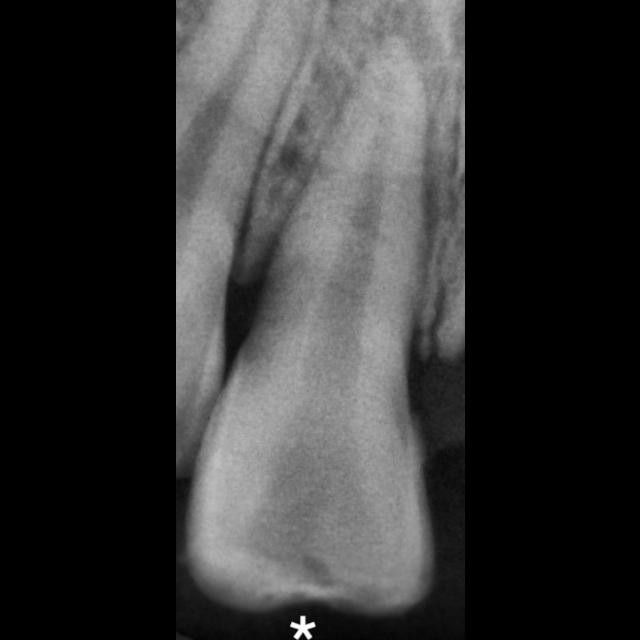tooth: (184, 31, 433, 619)
